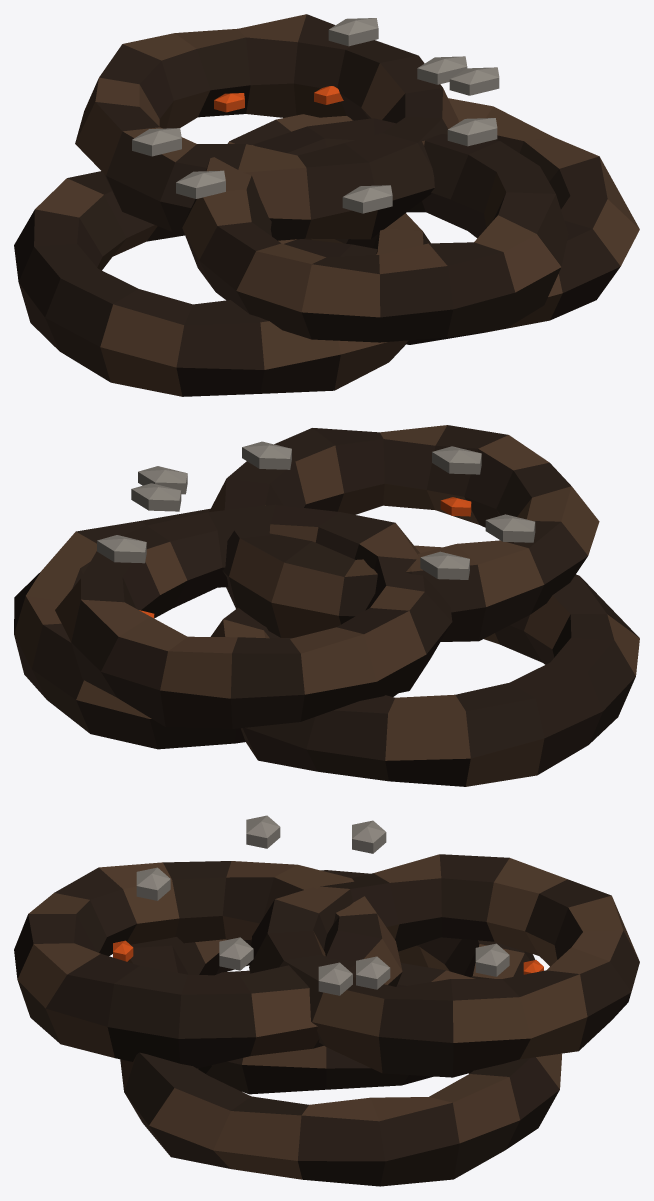
The model's file is onion_rings_burnt.glb.
3 views of the same model, one above another, from view 1: azimuth 30°, elevation 25°; view 2: azimuth 150°, elevation 25°; view 3: azimuth 270°, elevation 25° (orthographic). The views are drawn at different scales.
Parts seen in each view (by area): view 1: OnionRingsBurnt; view 2: OnionRingsBurnt; view 3: OnionRingsBurnt.
Part boxes in pixels (x1,y1,x2,y2): OnionRingsBurnt: (14, 14, 639, 396); OnionRingsBurnt: (14, 425, 639, 786); OnionRingsBurnt: (14, 815, 639, 1186).
Size of the model in its own units: 2.6 by 0.8 by 2.6.
